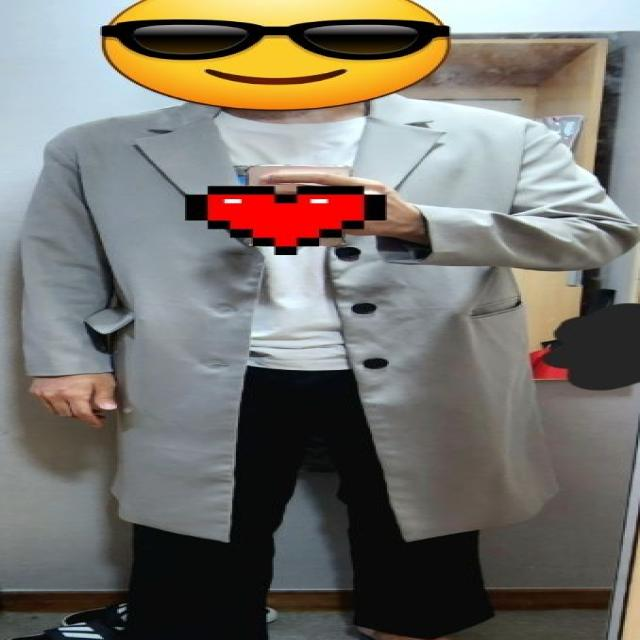coat: (21, 86, 640, 544)
slacks: (126, 361, 496, 640)
